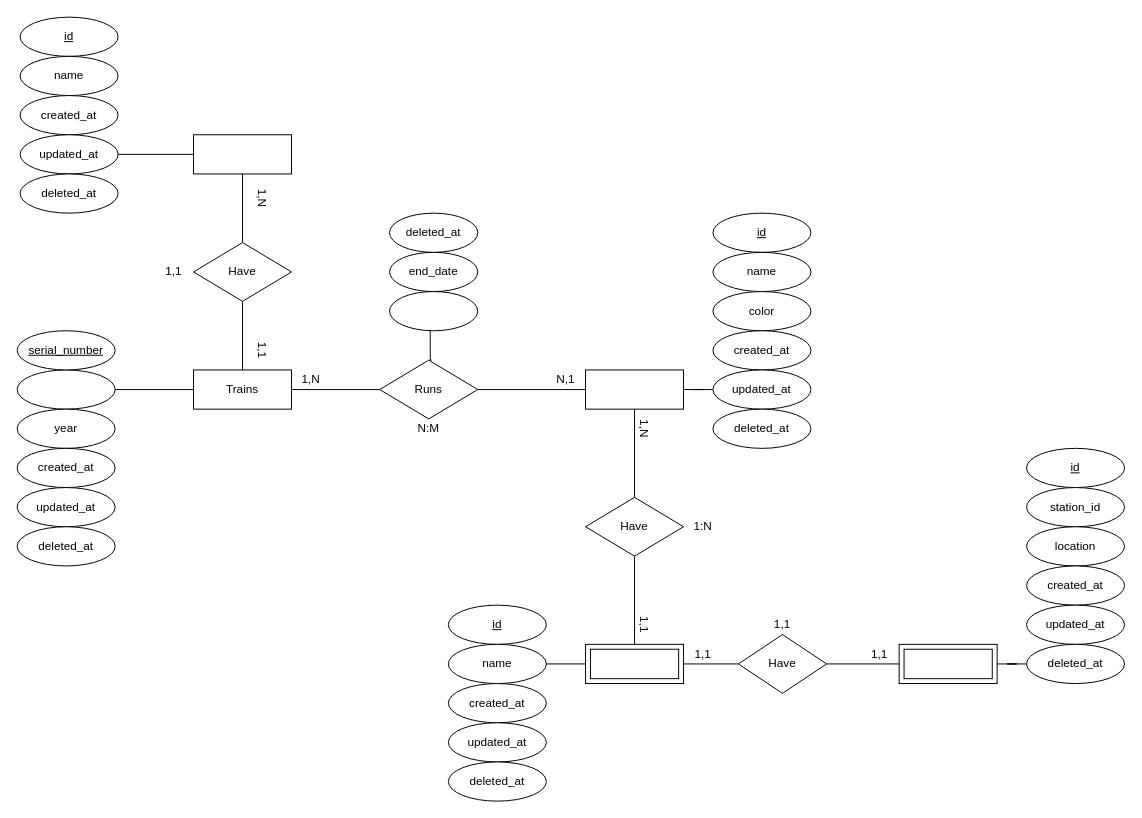
The diagram is 1142 pixels wide and 818 high, and some of its shapes have lost their labels. The centre of each missing label's shape, as x and y in pixels:
Lines: [634,389]
Locations: [947,663]
start_date: [433,311]
Stations: [634,663]
Trains Types: [242,154]
type_id: [65,389]
